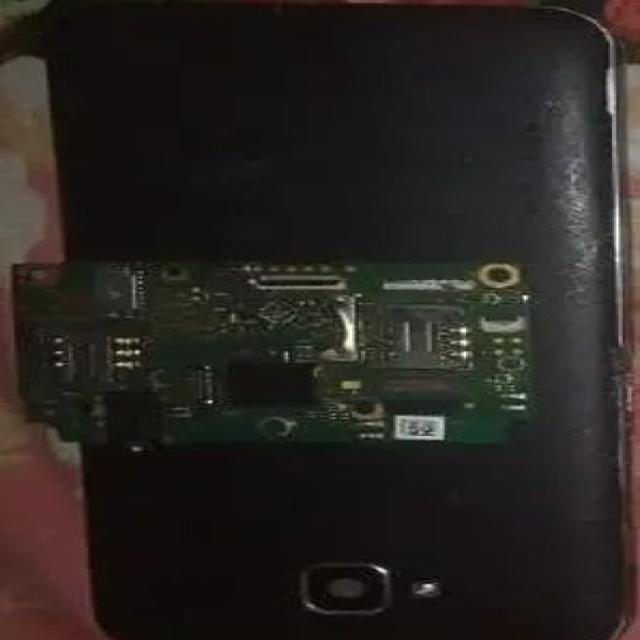electronic: (4, 0, 634, 639)
